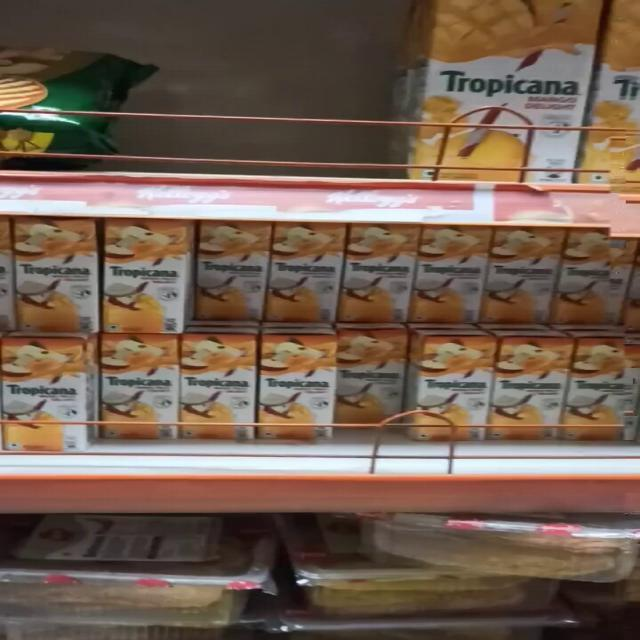Tropicana: (7, 218, 98, 332), (101, 221, 187, 333), (3, 342, 92, 447), (174, 338, 258, 438), (98, 337, 182, 436), (266, 226, 344, 329), (339, 224, 416, 326), (487, 333, 564, 434), (418, 336, 490, 440), (194, 223, 265, 326), (262, 340, 332, 440), (568, 338, 636, 440), (414, 230, 484, 329), (554, 230, 622, 324), (488, 230, 558, 321), (339, 330, 404, 424)
